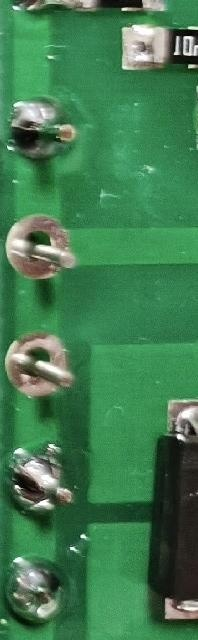chip-resistor: (118, 20, 198, 71)
diode: (149, 394, 198, 627)
